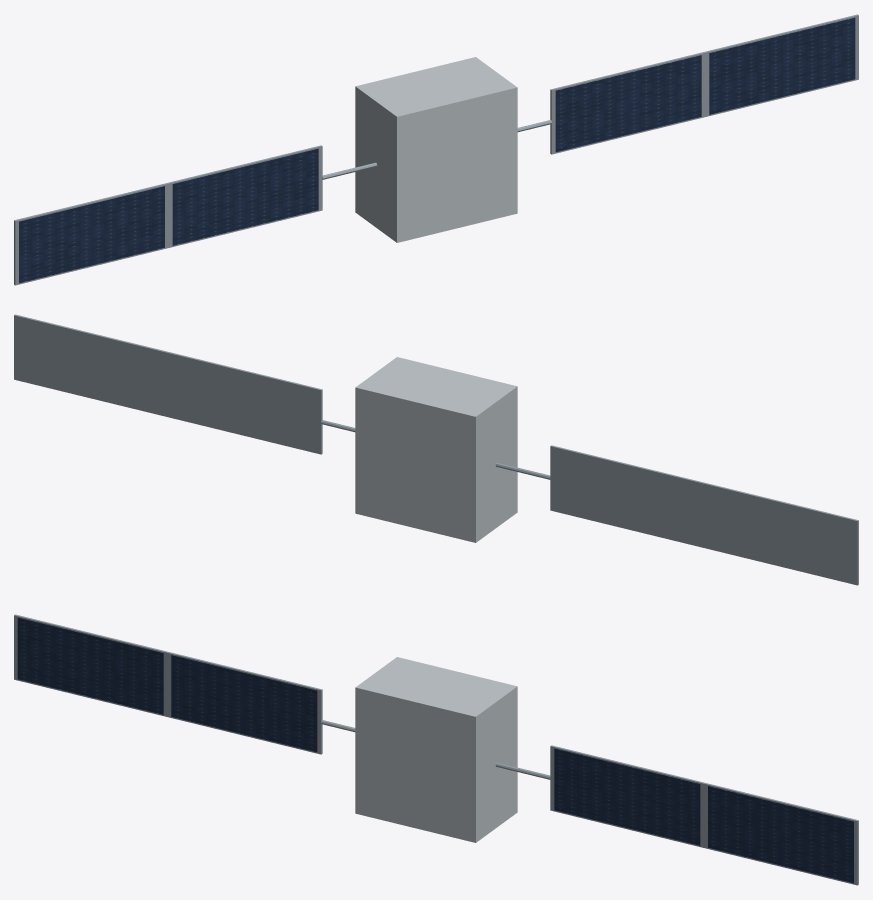
The model's file is ref-mp42-52169.glb.
3 views of the same model, one above another, from view 1: azimuth 30°, elevation 25°; view 2: azimuth 150°, elevation 25°; view 3: azimuth 330°, elevation 25° (orthographic).
Visible parts, largest first — view 1: Photovoltaic laminates (×4), Spacecraft body, Array frame (×4); view 2: Array frame (×4), Spacecraft body; view 3: Photovoltaic laminates (×4), Spacecraft body, Array frame (×4).
Boxes of the visible parts, left/top/right/bottom form: Photovoltaic laminates (×4): left=19, top=17, right=855, bottom=283; Spacecraft body: left=355, top=57, right=517, bottom=242; Array frame (×4): left=14, top=14, right=858, bottom=285; Array frame (×4): left=14, top=314, right=858, bottom=585; Spacecraft body: left=355, top=357, right=517, bottom=542; Photovoltaic laminates (×4): left=17, top=617, right=853, bottom=883; Spacecraft body: left=355, top=657, right=517, bottom=842; Array frame (×4): left=14, top=614, right=858, bottom=885.
Bounding box in the file's own units: 3.5 × 0.5 × 0.3.
Materials: 3 (1 with a texture image).
